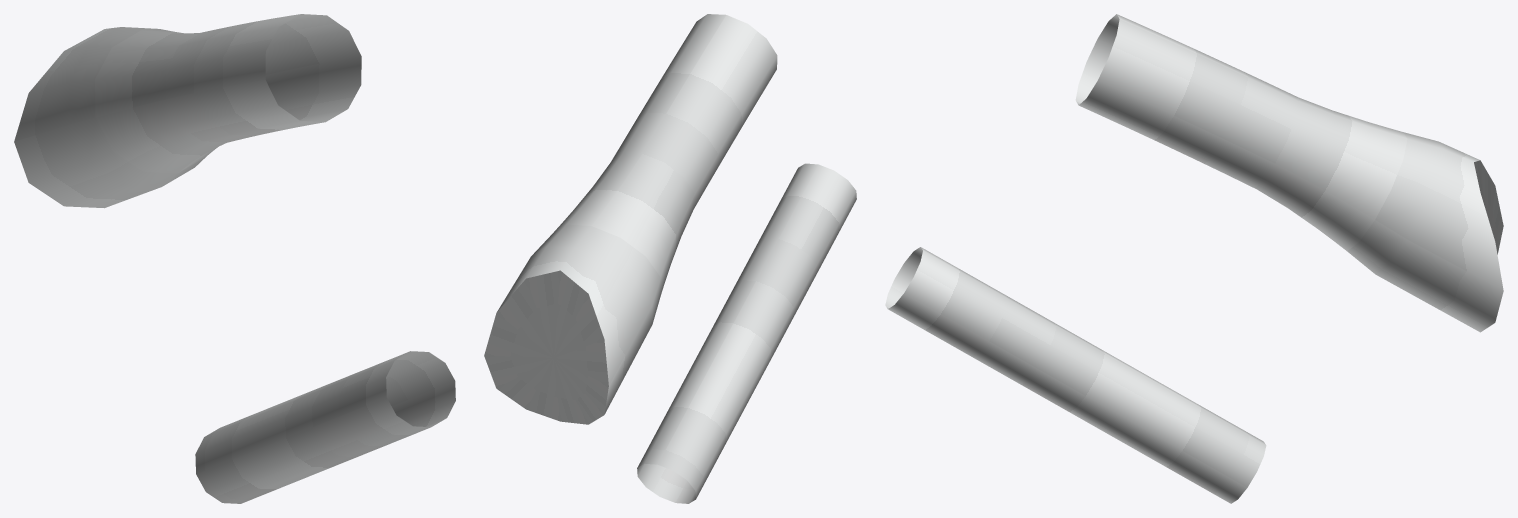
Rendered from luminairearm_truss12ftdouble_c9_thin.obj.
The picture shows the model from 3 angles, left to right: view 1: azimuth 30°, elevation 25°; view 2: azimuth 150°, elevation 25°; view 3: azimuth 270°, elevation 25°; orthographic projection. The views are drawn at different scales.
Visible parts, largest first — view 1: luminairearm_truss12ftdouble_c9_thin; view 2: luminairearm_truss12ftdouble_c9_thin; view 3: luminairearm_truss12ftdouble_c9_thin.
Boxes of the visible parts, bbox=[...] form: luminairearm_truss12ftdouble_c9_thin: bbox=[14, 14, 455, 503]; luminairearm_truss12ftdouble_c9_thin: bbox=[484, 14, 856, 503]; luminairearm_truss12ftdouble_c9_thin: bbox=[885, 14, 1503, 503].
Bounding box in the file's own units: 0.3375 × 1.16 × 1.36.
